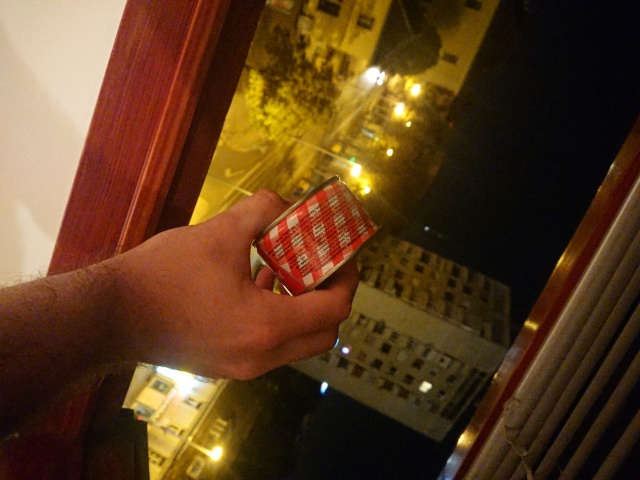Podravka Luncheon Meat 150g: (249, 171, 385, 303)
